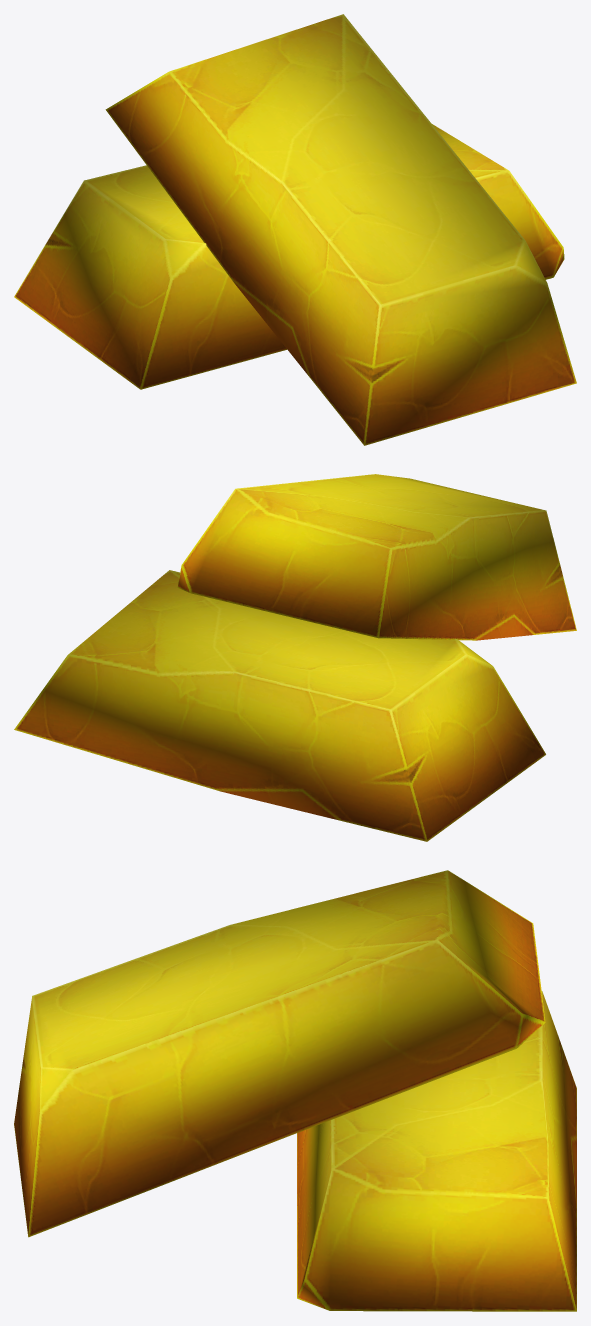
The model's file is gold1.obj.
3 views of the same model, one above another, from view 1: azimuth 30°, elevation 25°; view 2: azimuth 150°, elevation 25°; view 3: azimuth 270°, elevation 25° (orthographic). The views are drawn at different scales.
Parts seen in each view (by area): view 1: Gold_05; view 2: Gold_05; view 3: Gold_05.
Part boxes in pixels (x1=…): Gold_05: x1=14, y1=14, x2=576, y2=445; Gold_05: x1=14, y1=474, x2=576, y2=841; Gold_05: x1=14, y1=870, x2=576, y2=1311.
Size of the model in its own units: 5.91 by 3.4 by 5.94.
